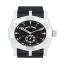watch: (8, 12, 52, 58)
